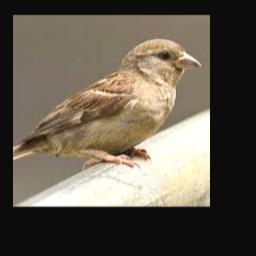Sparrow: (13, 37, 201, 168)
